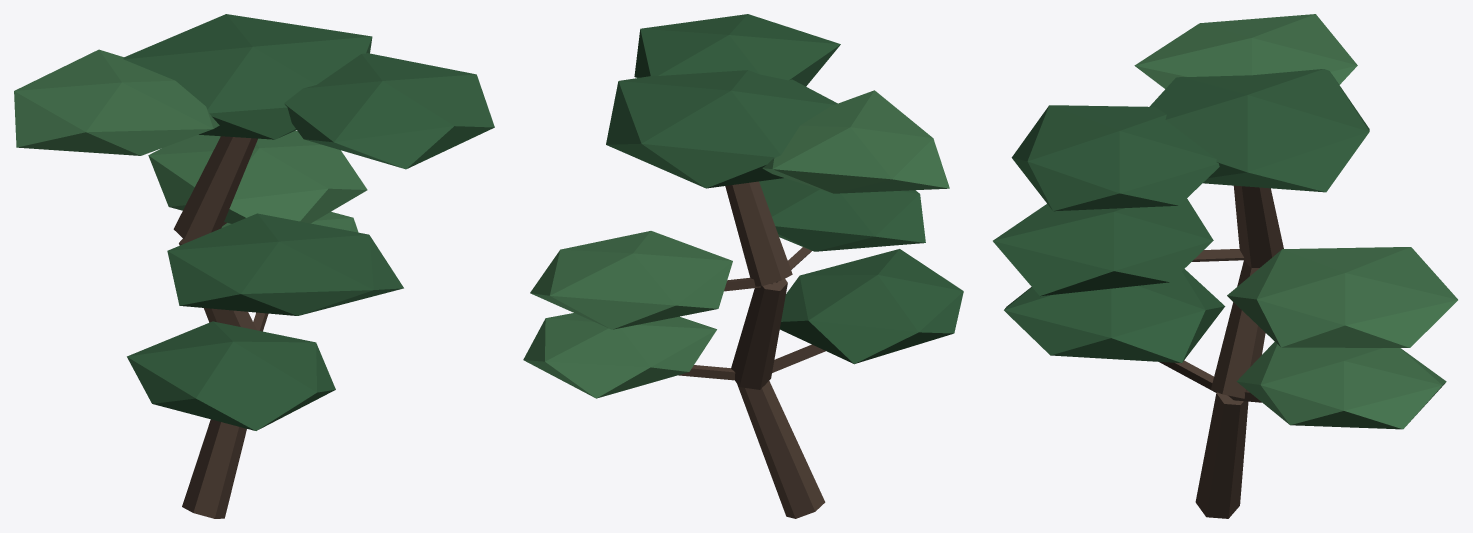
File: tall_jp_1.glb
The picture shows the model from 3 angles, left to right: view 1: azimuth 30°, elevation 25°; view 2: azimuth 150°, elevation 25°; view 3: azimuth 270°, elevation 25°; orthographic projection. The views are drawn at different scales.
Visible parts, largest first — view 1: tall_jp_1; view 2: tall_jp_1; view 3: tall_jp_1.
Boxes of the visible parts, bbox=[...] form: tall_jp_1: bbox=[14, 14, 494, 518]; tall_jp_1: bbox=[523, 14, 963, 518]; tall_jp_1: bbox=[993, 14, 1457, 518].
Size of the model in its own units: 6.13 by 6.64 by 6.26.
